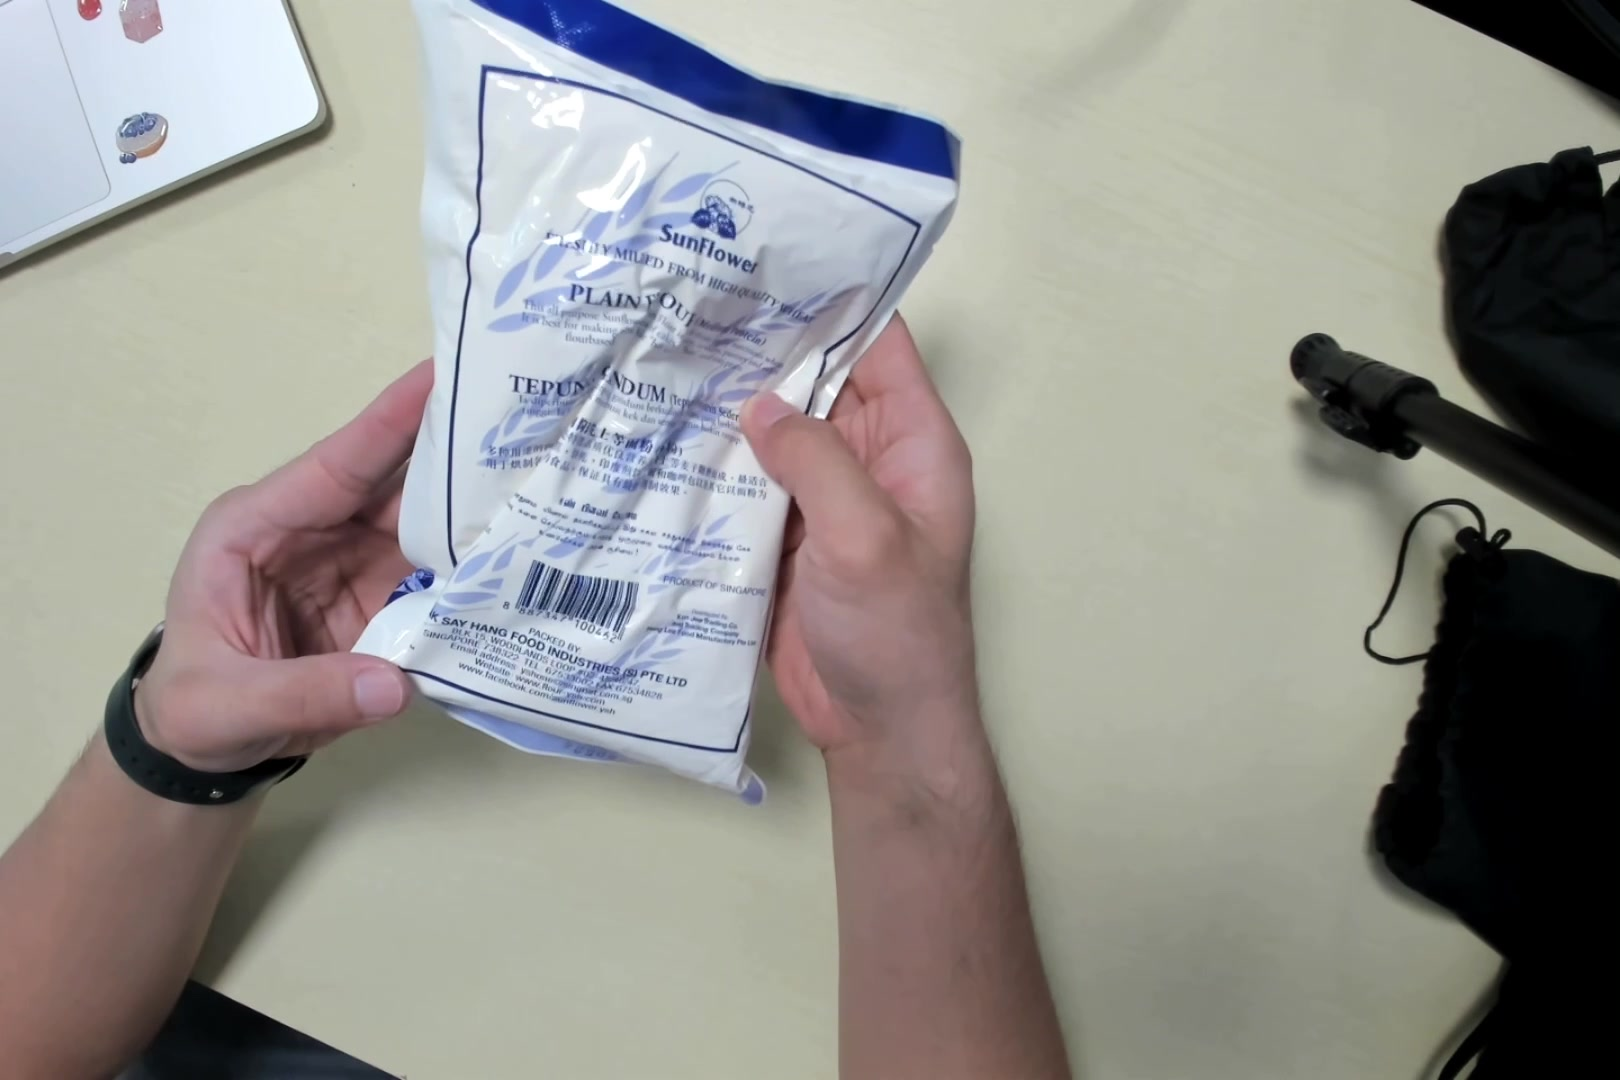Flour_500-599g_NonHalal_NonHealthy: (417, 27, 890, 804)
